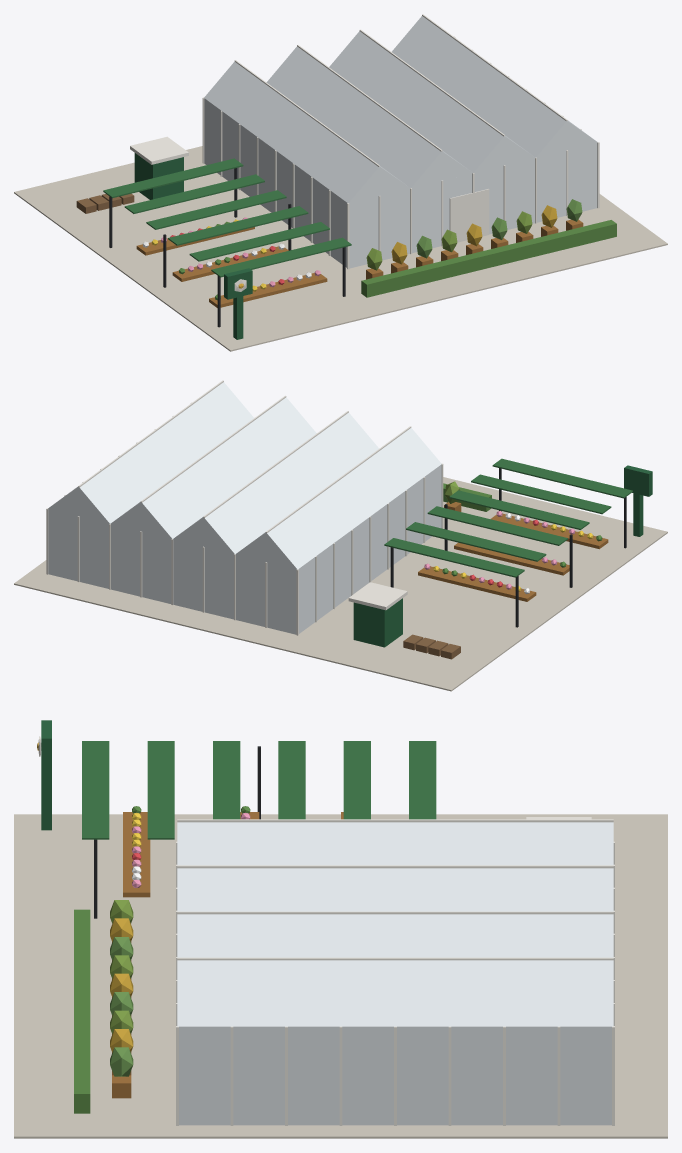
The model's file is Simge_bahce_merkezi_Hafif.fbx.
3 renders of one model, top to bottom at view 1: azimuth 30°, elevation 25°; view 2: azimuth 150°, elevation 25°; view 3: azimuth 270°, elevation 25°, orthographic. The views are drawn at different scales.
Parts seen in each view (by area): view 1: Simge_bahce_merkezi_Hafif; view 2: Simge_bahce_merkezi_Hafif; view 3: Simge_bahce_merkezi_Hafif.
Boxes of the visible parts, x1,y1,x2,y2 form: Simge_bahce_merkezi_Hafif: (14, 14, 667, 351); Simge_bahce_merkezi_Hafif: (14, 380, 667, 691); Simge_bahce_merkezi_Hafif: (14, 720, 667, 1138).
Bounding box in the file's own units: 28 × 5.92 × 24.
